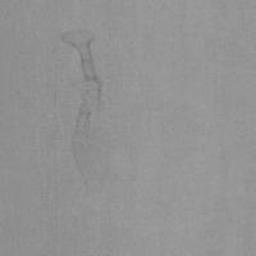Water spot: (59, 27, 120, 205)
